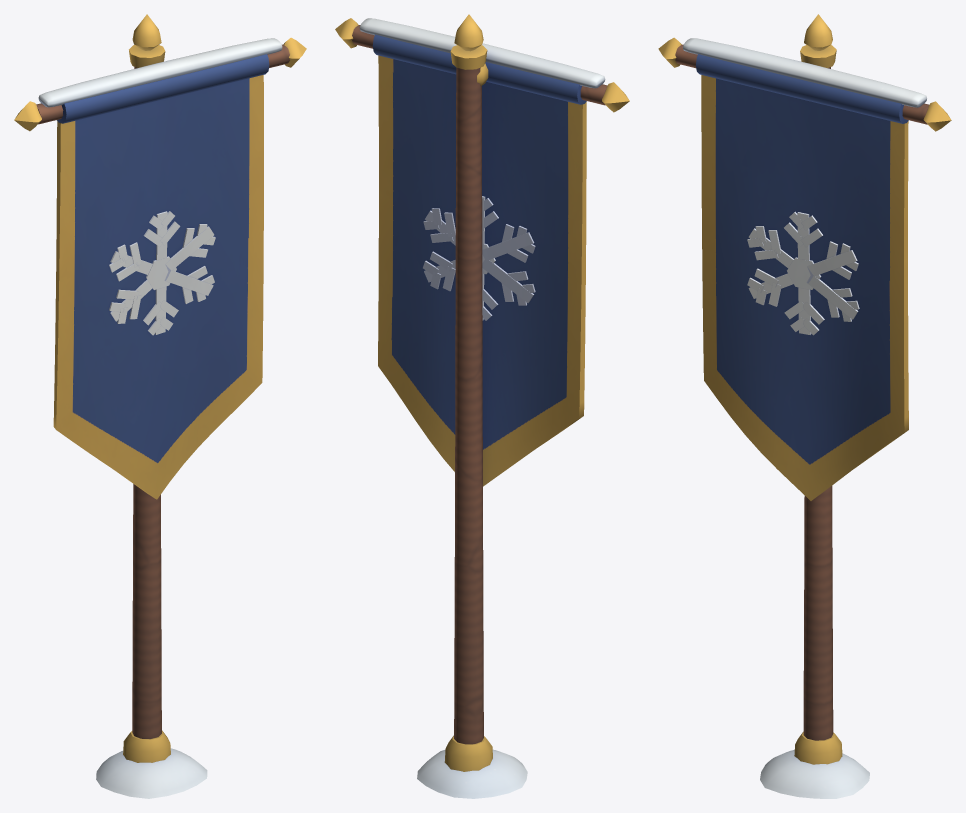
The model's file is FP_P09_SnowflakePennant.fbx.
The picture shows the model from 3 angles, left to right: view 1: azimuth 30°, elevation 25°; view 2: azimuth 150°, elevation 25°; view 3: azimuth 330°, elevation 25°; orthographic projection.
Visible parts, largest first — view 1: Cloth, Pole, Bar; view 2: Cloth, Pole, Bar; view 3: Cloth, Pole, Bar.
Boxes of the visible parts, <box> form: Cloth: <box>53,54,269,499</box>; Pole: <box>96,14,207,798</box>; Bar: <box>14,37,306,131</box>; Cloth: <box>372,34,586,486</box>; Pole: <box>417,14,527,798</box>; Bar: <box>335,18,629,112</box>; Cloth: <box>695,54,908,500</box>; Pole: <box>760,14,869,798</box>; Bar: <box>658,37,951,131</box>.
Size of the model in its own units: 1.01 by 2.5 by 0.3161.
